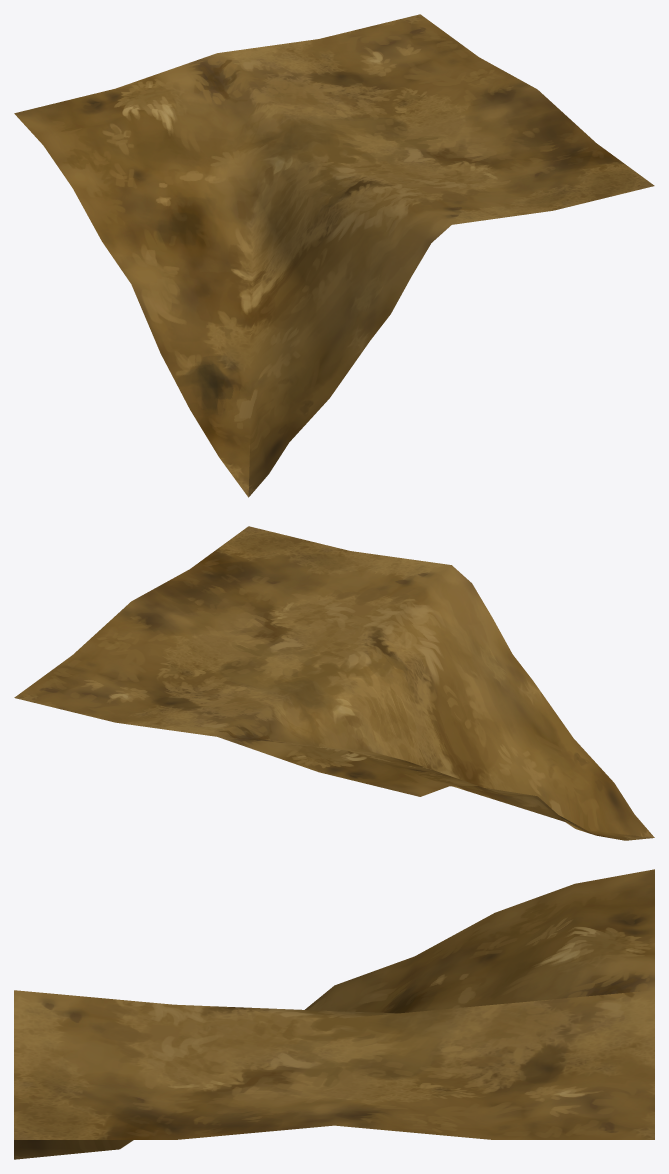
The model's file is Slope_Level_Incline_005.fbx.
3 renders of one model, top to bottom at view 1: azimuth 30°, elevation 25°; view 2: azimuth 150°, elevation 25°; view 3: azimuth 270°, elevation 25°, orthographic. The views are drawn at different scales.
Visible parts, largest first — view 1: Slope_Level_Incline_005; view 2: Slope_Level_Incline_005; view 3: Slope_Level_Incline_005.
Part boxes in pixels (bbox=[...]): Slope_Level_Incline_005: bbox=[14, 14, 654, 497]; Slope_Level_Incline_005: bbox=[14, 526, 654, 840]; Slope_Level_Incline_005: bbox=[14, 869, 654, 1159].
Bounding box in the file's own units: 10 × 5.25 × 10.
Materials: 1 (1 with a texture image).
